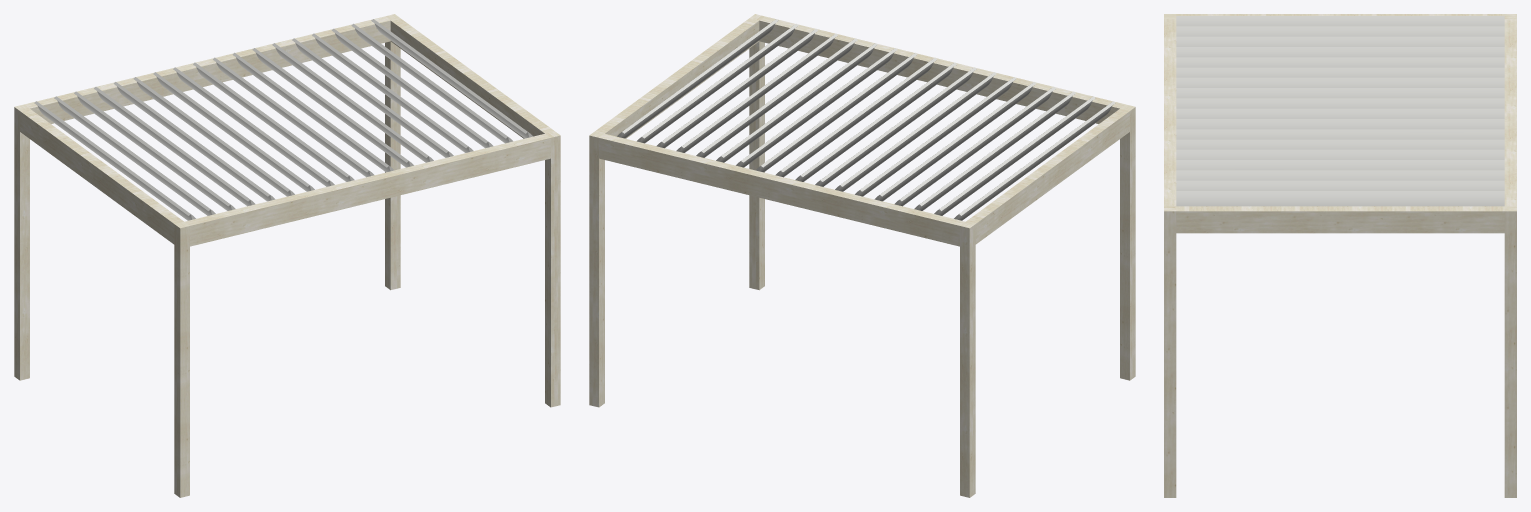
File: psr_dokuritu-2k9s_whitepine.fbx
The picture shows the model from 3 angles, left to right: view 1: azimuth 30°, elevation 25°; view 2: azimuth 150°, elevation 25°; view 3: azimuth 270°, elevation 25°; orthographic projection. The views are drawn at different scales.
Parts seen in each view (by area): view 1: psr_dokuritu-2k9s_whitepine; view 2: psr_dokuritu-2k9s_whitepine; view 3: psr_dokuritu-2k9s_whitepine.
Boxes of the visible parts, x1,y1,x2,y2 form: psr_dokuritu-2k9s_whitepine: (14, 14, 560, 497); psr_dokuritu-2k9s_whitepine: (589, 14, 1135, 497); psr_dokuritu-2k9s_whitepine: (1164, 14, 1516, 497).
Bounding box in the file's own units: 384 × 266 × 290.
Materials: 2 (1 with a texture image).
